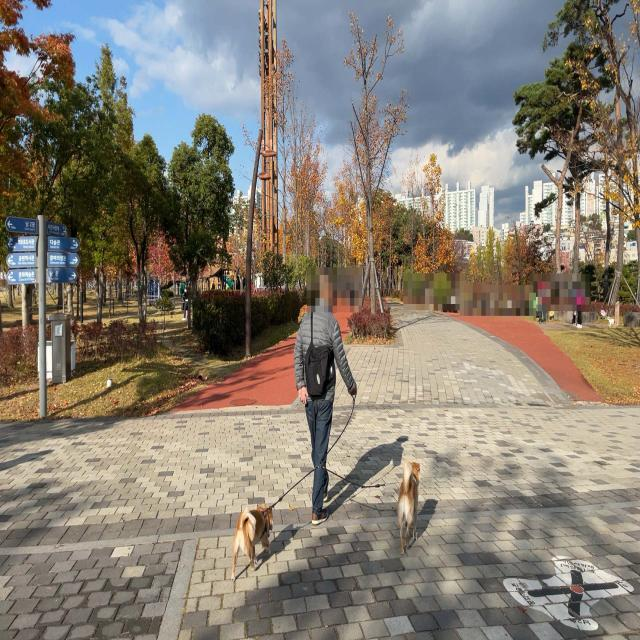Leashed_Dog: (311, 379, 422, 558), (230, 380, 323, 584)
